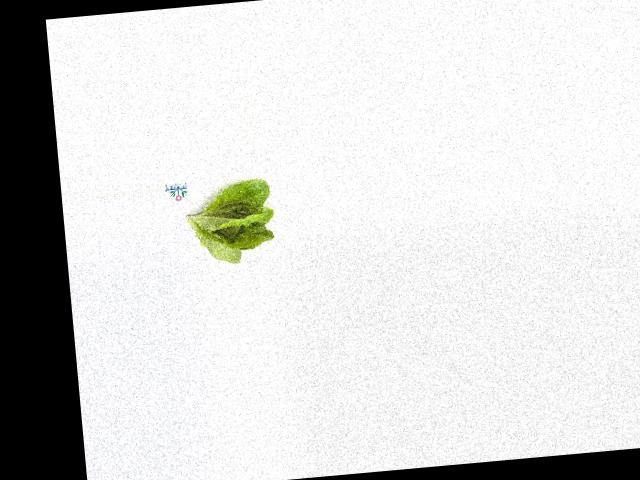lettuce: (183, 179, 280, 269)
